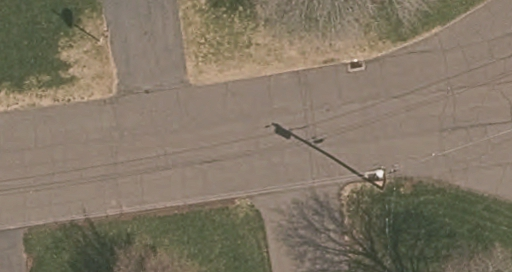DT: (370, 164, 392, 183)
